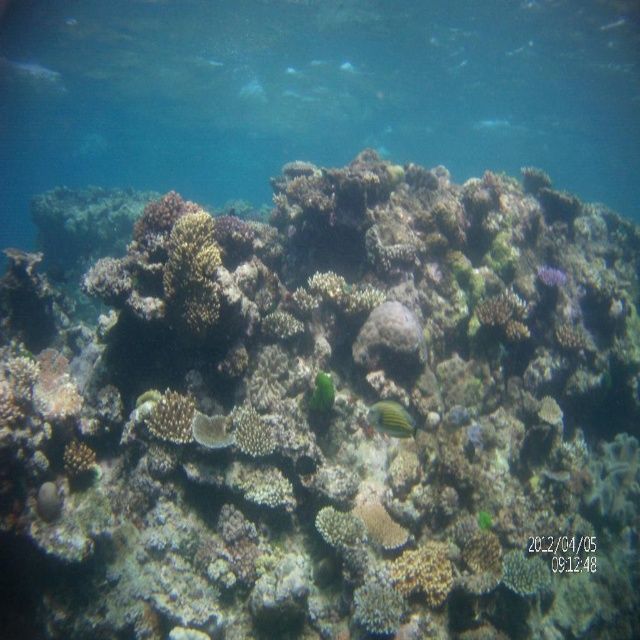Fish: (366, 400, 417, 439)
